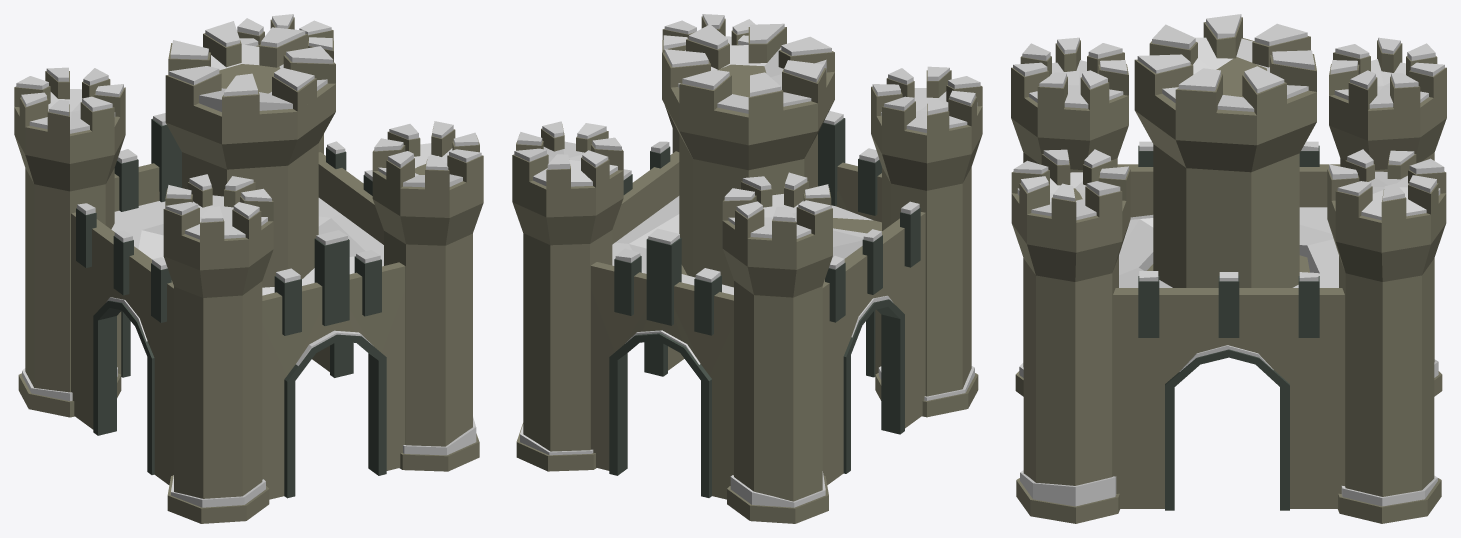
File: Castle_2_lvl_snow_mat.fbx
3 renders of one model, left to right at view 1: azimuth 30°, elevation 25°; view 2: azimuth 150°, elevation 25°; view 3: azimuth 270°, elevation 25°, orthographic. The views are drawn at different scales.
Visible parts, largest first — view 1: Castle_2_lvl_snow_mat; view 2: Castle_2_lvl_snow_mat; view 3: Castle_2_lvl_snow_mat.
Boxes of the visible parts, bbox=[...] form: Castle_2_lvl_snow_mat: bbox=[14, 14, 483, 523]; Castle_2_lvl_snow_mat: bbox=[512, 14, 982, 523]; Castle_2_lvl_snow_mat: bbox=[1011, 14, 1446, 523].
Bounding box in the file's own units: 4.67 × 5.27 × 5.3.
